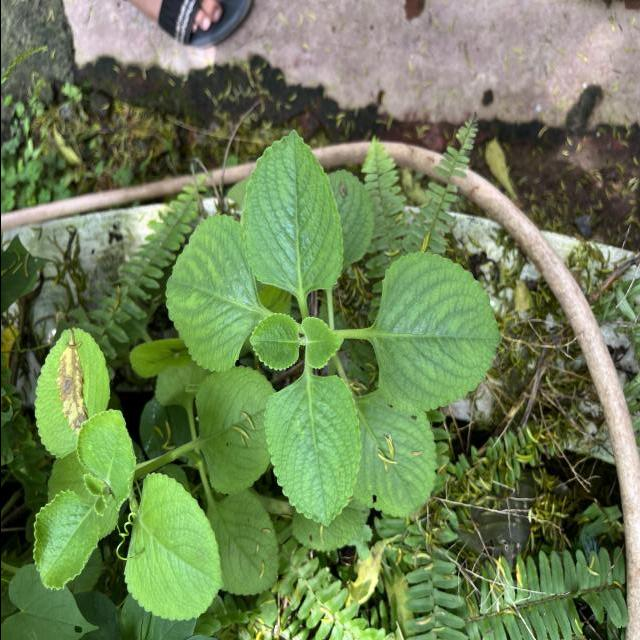Plectranthus barbatus: (372, 249, 503, 414), (242, 128, 344, 290), (262, 372, 362, 528), (122, 471, 224, 622), (164, 211, 258, 374), (351, 386, 436, 518), (193, 365, 276, 496), (33, 326, 110, 460), (31, 488, 100, 592), (217, 491, 279, 597), (75, 408, 137, 512), (248, 312, 300, 372), (300, 316, 343, 370)
